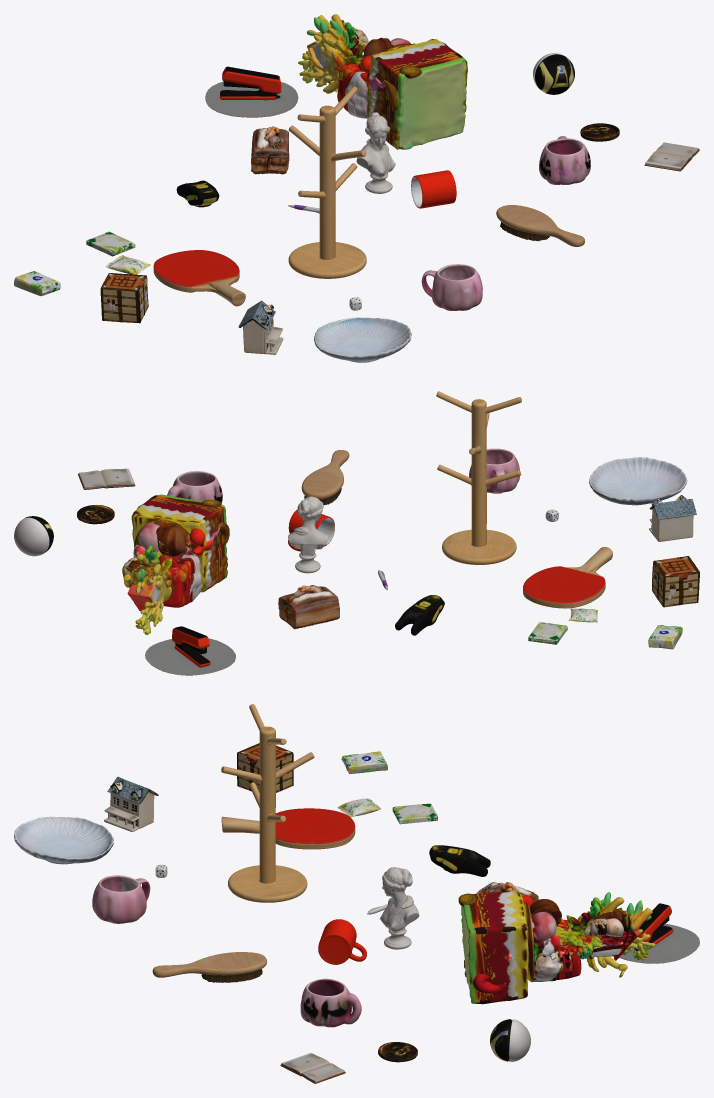
The model's file is simfoundry.glb.
3 renders of one model, top to bottom at view 1: azimuth 30°, elevation 25°; view 2: azimuth 150°, elevation 25°; view 3: azimuth 270°, elevation 25°, orthographic. The views are drawn at different scales.
Visible parts, largest first — view 1: red_cake_toy_oefwdb_link_iter_21_canonical_mesh_obj, wooden_coat_rack_stand_brwagr_link_iter_8_canonical_mesh_obj, red_stapler_ndpdiw_link_iter_20_canonical_mesh_obj, white_plate_yigkrv_link_iter_0_canonical_mesh_obj, red_ping_pong_paddle_cvogud_link_iter_6_canonical_mesh_obj, purple_mug_luoawe_link_iter_1_canonical_mesh_obj, wooden_cube_block_ykdkbr_link_iter_10_canonical_mesh_obj, pink_mug_juteqy_link_iter_7_canonical_mesh_obj, wooden_hairbrush_ijtdfi_link_iter_4_canonical_mesh_obj, white_bust_figurine_sjyqot_link_iter_9_canonical_mesh_obj, white_house_model_ydlpck_link_iter_3_canonical_mesh_obj, wooden_treasure_chest_lesrhy_link_iter_18_canonical_mesh_obj (+8 smaller); view 2: red_cake_toy_oefwdb_link_iter_21_canonical_mesh_obj, wooden_coat_rack_stand_brwagr_link_iter_8_canonical_mesh_obj, white_plate_yigkrv_link_iter_0_canonical_mesh_obj, red_ping_pong_paddle_cvogud_link_iter_6_canonical_mesh_obj, red_stapler_ndpdiw_link_iter_20_canonical_mesh_obj, wooden_cube_block_ykdkbr_link_iter_10_canonical_mesh_obj, wooden_treasure_chest_lesrhy_link_iter_18_canonical_mesh_obj, white_bust_figurine_sjyqot_link_iter_9_canonical_mesh_obj, white_house_model_ydlpck_link_iter_3_canonical_mesh_obj, wooden_hairbrush_ijtdfi_link_iter_4_canonical_mesh_obj, pink_mug_juteqy_link_iter_7_canonical_mesh_obj, black_and_yellow_poke_ball_yzadfx_link_iter_19_canonical_mes (+7 smaller); view 3: red_cake_toy_oefwdb_link_iter_21_canonical_mesh_obj, wooden_coat_rack_stand_brwagr_link_iter_8_canonical_mesh_obj, white_plate_yigkrv_link_iter_0_canonical_mesh_obj, red_ping_pong_paddle_cvogud_link_iter_6_canonical_mesh_obj, pink_mug_juteqy_link_iter_7_canonical_mesh_obj, purple_mug_luoawe_link_iter_1_canonical_mesh_obj, red_stapler_ndpdiw_link_iter_20_canonical_mesh_obj, wooden_hairbrush_ijtdfi_link_iter_4_canonical_mesh_obj, white_bust_figurine_sjyqot_link_iter_9_canonical_mesh_obj, white_house_model_ydlpck_link_iter_3_canonical_mesh_obj, red_mug_uullbi_link_iter_5_canonical_mesh_obj, black_and_yellow_poke_ball_yzadfx_link_iter_19_canonical_mes (+6 smaller).
Part boxes in pixels (bbox=[...]): red_cake_toy_oefwdb_link_iter_21_canonical_mesh_obj: bbox=[298, 14, 467, 149]; wooden_coat_rack_stand_brwagr_link_iter_8_canonical_mesh_obj: bbox=[288, 86, 366, 278]; red_stapler_ndpdiw_link_iter_20_canonical_mesh_obj: bbox=[205, 66, 298, 117]; white_plate_yigkrv_link_iter_0_canonical_mesh_obj: bbox=[314, 317, 411, 362]; red_ping_pong_paddle_cvogud_link_iter_6_canonical_mesh_obj: bbox=[153, 250, 245, 306]; purple_mug_luoawe_link_iter_1_canonical_mesh_obj: bbox=[421, 264, 482, 310]; wooden_cube_block_ykdkbr_link_iter_10_canonical_mesh_obj: bbox=[100, 273, 148, 323]; pink_mug_juteqy_link_iter_7_canonical_mesh_obj: bbox=[539, 136, 590, 184]; wooden_hairbrush_ijtdfi_link_iter_4_canonical_mesh_obj: bbox=[496, 205, 584, 246]; white_bust_figurine_sjyqot_link_iter_9_canonical_mesh_obj: bbox=[356, 112, 395, 193]; white_house_model_ydlpck_link_iter_3_canonical_mesh_obj: bbox=[238, 300, 283, 354]; wooden_treasure_chest_lesrhy_link_iter_18_canonical_mesh_obj: bbox=[251, 126, 289, 174]; red_cake_toy_oefwdb_link_iter_21_canonical_mesh_obj: bbox=[122, 494, 229, 634]; wooden_coat_rack_stand_brwagr_link_iter_8_canonical_mesh_obj: bbox=[436, 391, 521, 564]; white_plate_yigkrv_link_iter_0_canonical_mesh_obj: bbox=[589, 457, 687, 505]; red_ping_pong_paddle_cvogud_link_iter_6_canonical_mesh_obj: bbox=[523, 547, 612, 608]; red_stapler_ndpdiw_link_iter_20_canonical_mesh_obj: bbox=[145, 626, 235, 675]; wooden_cube_block_ykdkbr_link_iter_10_canonical_mesh_obj: bbox=[652, 556, 699, 607]; wooden_treasure_chest_lesrhy_link_iter_18_canonical_mesh_obj: bbox=[278, 585, 339, 629]; white_bust_figurine_sjyqot_link_iter_9_canonical_mesh_obj: bbox=[288, 496, 328, 573]; white_house_model_ydlpck_link_iter_3_canonical_mesh_obj: bbox=[649, 495, 696, 541]; wooden_hairbrush_ijtdfi_link_iter_4_canonical_mesh_obj: bbox=[301, 450, 349, 505]; pink_mug_juteqy_link_iter_7_canonical_mesh_obj: bbox=[167, 471, 222, 503]; black_and_yellow_poke_ball_yzadfx_link_iter_19_canonical_mes: bbox=[14, 516, 53, 556]; red_cake_toy_oefwdb_link_iter_21_canonical_mesh_obj: bbox=[458, 891, 655, 1004]; wooden_coat_rack_stand_brwagr_link_iter_8_canonical_mesh_obj: bbox=[221, 704, 314, 902]; white_plate_yigkrv_link_iter_0_canonical_mesh_obj: bbox=[14, 816, 113, 864]; red_ping_pong_paddle_cvogud_link_iter_6_canonical_mesh_obj: bbox=[221, 808, 355, 849]; pink_mug_juteqy_link_iter_7_canonical_mesh_obj: bbox=[300, 978, 361, 1027]; purple_mug_luoawe_link_iter_1_canonical_mesh_obj: bbox=[92, 875, 150, 923]; red_stapler_ndpdiw_link_iter_20_canonical_mesh_obj: bbox=[619, 903, 699, 963]; wooden_hairbrush_ijtdfi_link_iter_4_canonical_mesh_obj: bbox=[152, 952, 266, 982]; white_bust_figurine_sjyqot_link_iter_9_canonical_mesh_obj: bbox=[380, 867, 419, 949]; white_house_model_ydlpck_link_iter_3_canonical_mesh_obj: bbox=[104, 776, 158, 831]; red_mug_uullbi_link_iter_5_canonical_mesh_obj: bbox=[318, 919, 366, 964]; black_and_yellow_poke_ball_yzadfx_link_iter_19_canonical_mes: bbox=[490, 1019, 530, 1061].
Size of what is drawn, in the model's own units: 1.25 by 0.2988 by 1.11.
22 materials, 22 textured.
